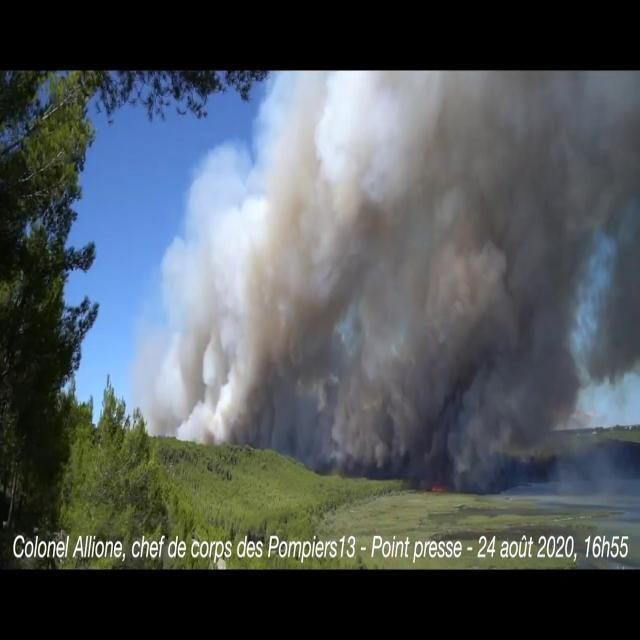Smoke: (158, 70, 640, 477)
